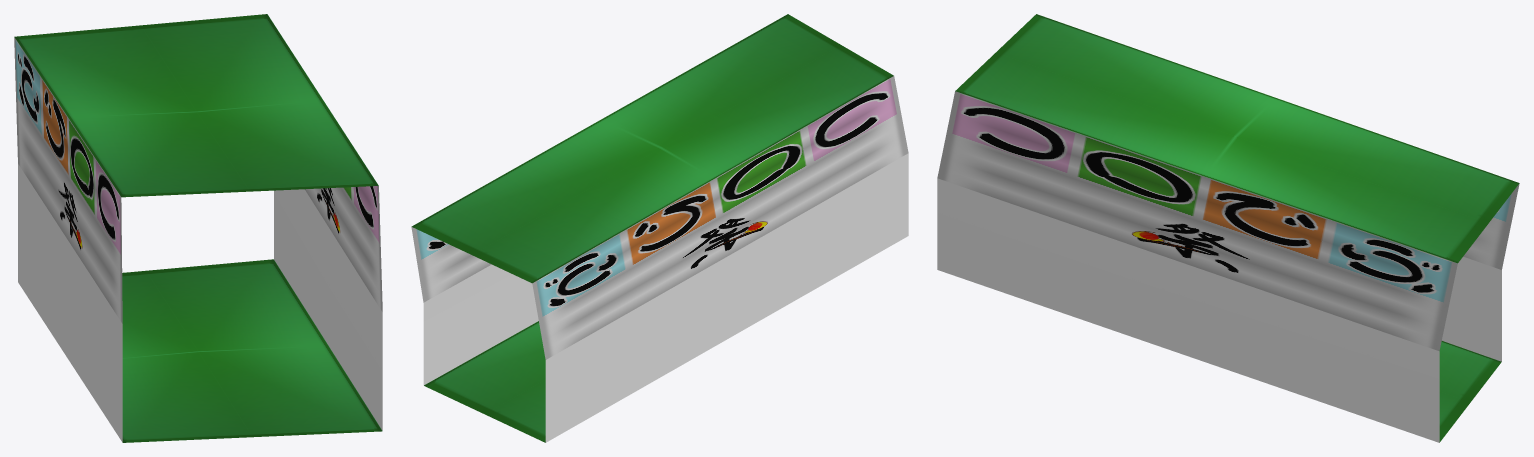
The picture shows the model from 3 angles, left to right: view 1: azimuth 30°, elevation 25°; view 2: azimuth 150°, elevation 25°; view 3: azimuth 270°, elevation 25°; orthographic projection. The views are drawn at different scales.
Visible parts, largest first — view 1: polySurface101; view 2: polySurface101; view 3: polySurface101.
Boxes of the visible parts, left/top/right/bottom form: polySurface101: left=14, top=14, right=382, bottom=442; polySurface101: left=411, top=14, right=908, bottom=442; polySurface101: left=937, top=14, right=1519, bottom=442.
Bounding box in the file's own units: 3.78 × 2.98 × 5.76.
